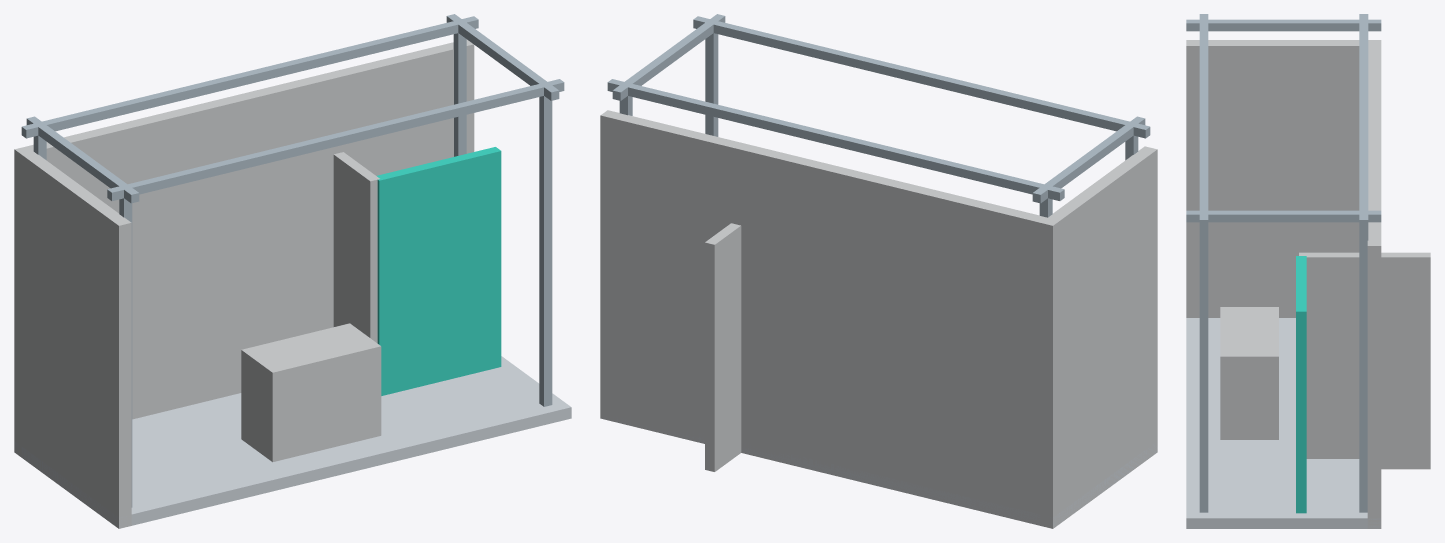
3 views of the same model, side by side, from view 1: azimuth 30°, elevation 25°; view 2: azimuth 150°, elevation 25°; view 3: azimuth 270°, elevation 25° (orthographic). The views are drawn at different scales.
Visible parts, largest first — view 1: Exhibition Booth Concept; view 2: Exhibition Booth Concept; view 3: Exhibition Booth Concept.
Part boxes in pixels (bbox=[...]): Exhibition Booth Concept: bbox=[14, 14, 571, 528]; Exhibition Booth Concept: bbox=[600, 14, 1157, 528]; Exhibition Booth Concept: bbox=[1186, 14, 1430, 528].
Size of the model in its own units: 5 by 3.49 by 2.5.
